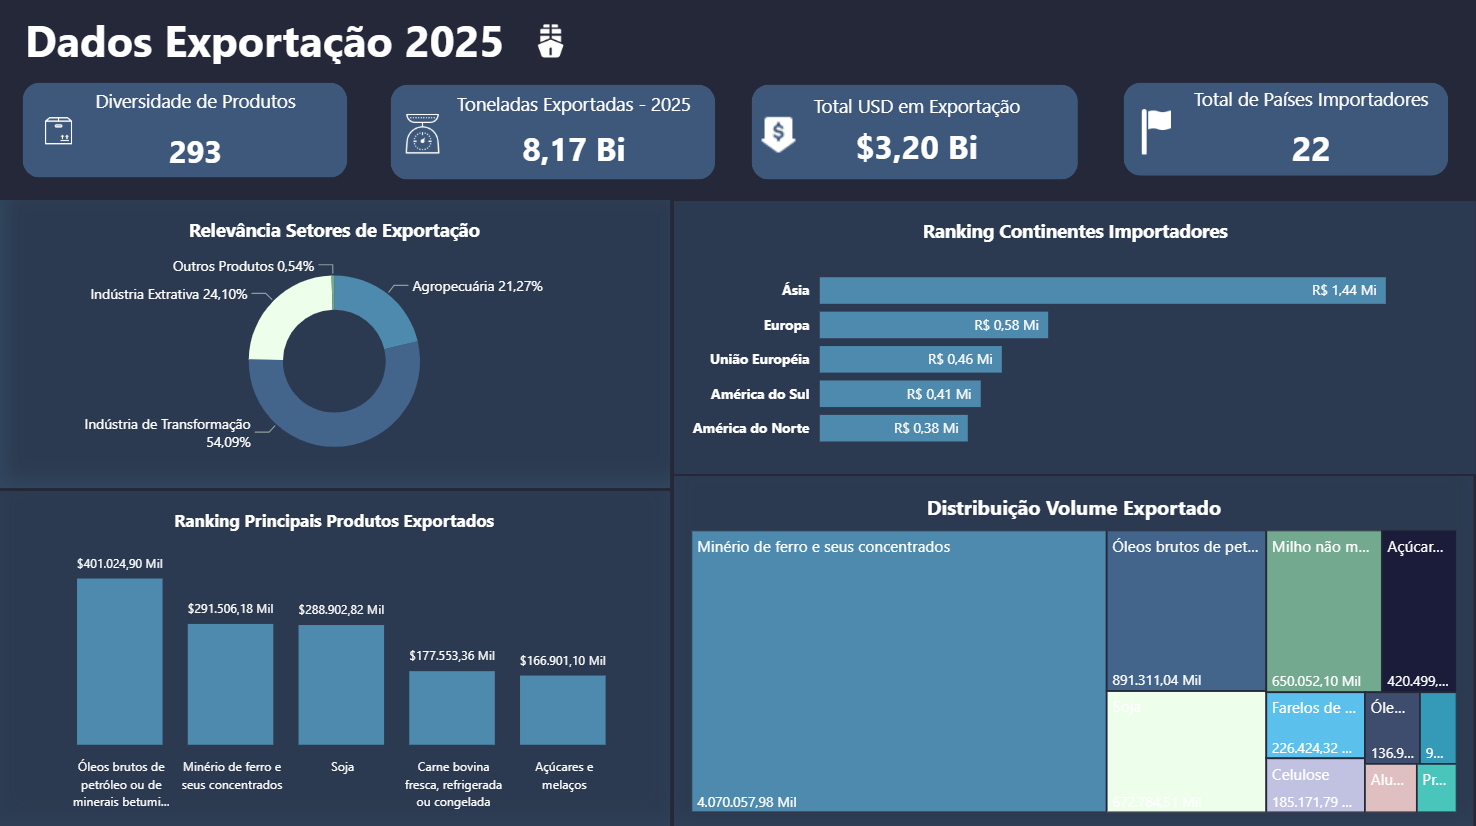

This screenshot's page, from the dashboard's own definition file:
{"tool":"powerbi","page":{"name":"KPI'S EXPORTAÇÃO","canvas":[1280,720],"ordinal":0},"visuals":[{"type":"shape","box":[0,0,1280,720],"z":0},{"type":"textbox","box":[23.3,0,576.7,85],"z":1000},{"type":"image","box":[441.7,6.7,71.7,61.7],"z":2000},{"type":"shape","box":[5,58.3,311.7,113.3],"z":3000},{"type":"image","box":[23.3,78.3,58.3,73.3],"z":4000},{"type":"shape","box":[323.3,60,311.7,113.3],"z":5000},{"type":"shape","box":[635,60,313.3,113.3],"z":6000},{"type":"shape","box":[956.7,58.3,311.7,111.7],"z":7000},{"type":"image","box":[640,80,70,76.7],"z":8000},{"type":"image","box":[328.3,80,76.7,75],"z":9000},{"type":"image","box":[963.3,76.7,75,78.3],"z":10000},{"type":"treemap","title":"Distribuição  Volume Exportado","fields":{"Group":["Produtos.PRODUTO"],"Values":["Sum(Produtos.TON  10/25)"]},"box":[584.3,414.3,691.4,305.7],"z":11000},{"type":"card","title":"Total USD em Exportação","fields":{"Values":["Sum(Produtos.USS 10/25)"]},"box":[674.4,83.2,240.1,62.7],"z":12000},{"type":"card","title":"Toneladas Exportadas - 2025","fields":{"Values":["Sum(Produtos.TON  10/25)"]},"box":[380,81.7,235,70],"z":13000},{"type":"card","title":"Total de Países Importadores","fields":{"Values":["Count(Paises_Valores.País)"]},"box":[1001.7,76.7,266.7,76.7],"z":14000},{"type":"donutChart","title":"Relevância Setores de Exportação","fields":{"Y":["Sum(Produtos.USS 10/25)"],"Series":["Produtos.CLASSE"]},"box":[0,175.7,581.4,248.6],"z":15000},{"type":"columnChart","title":"Ranking Principais Produtos Exportados","fields":{"Category":["Produtos.PRODUTO"],"Y":["Sum(Produtos.USS 10/25)"]},"box":[0,426.7,581.1,293.3],"z":16000},{"type":"card","title":"Diversidade de Produtos ","fields":{"Values":["Count(Produtos.PRODUTO)"]},"box":[51.9,78.4,237.7,79.6],"z":17000},{"type":"clusteredBarChart","title":"Ranking Continentes Importadores","fields":{"Category":["Paises_Valores.País"],"Y":["Sum(Paises_Valores.USD_NOV_25)"]},"box":[584.4,176.7,693.3,235.6],"z":18000}]}

Visuals, with their boxes in screenshot pixels (x1, y1, x2, y2), scaled from the page's 1280x720 canvas onto the 1476x826 screenshot:
shape: 0,0,1475,825
textbox: 27,0,692,98
image: 509,8,592,78
shape: 6,67,365,197
image: 27,90,94,174
shape: 373,69,732,199
shape: 732,69,1094,199
shape: 1103,67,1463,195
image: 738,92,819,180
image: 379,92,467,178
image: 1111,88,1197,178
"Distribuição  Volume Exportado" treemap: 674,475,1471,825
"Total USD em Exportação" card: 778,95,1055,167
"Toneladas Exportadas - 2025" card: 438,94,709,174
"Total de Países Importadores" card: 1155,88,1463,176
"Relevância Setores de Exportação" donutChart: 0,202,670,487
"Ranking Principais Produtos Exportados" columnChart: 0,490,670,825
"Diversidade de Produtos " card: 60,90,334,181
"Ranking Continentes Importadores" clusteredBarChart: 674,203,1473,473
